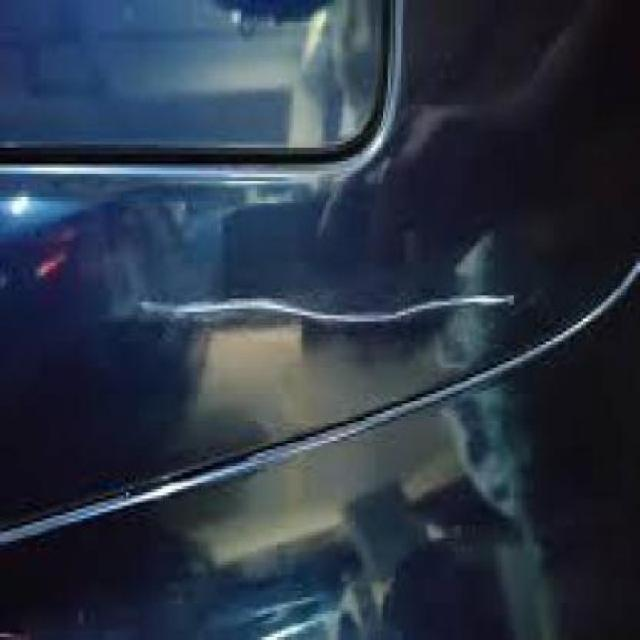scratch: (129, 274, 545, 344)
